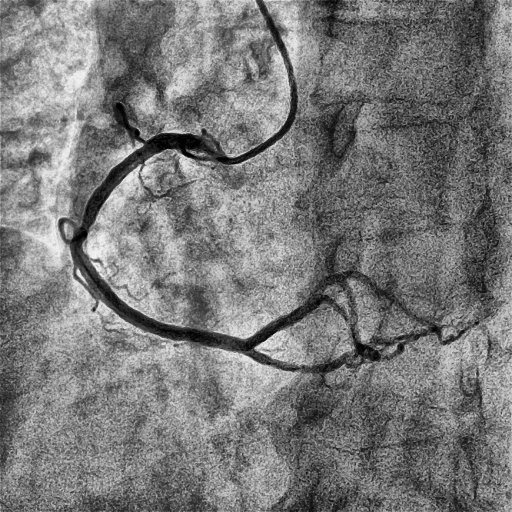pborca: (246, 271, 438, 350)
pda: (241, 348, 359, 373)
rca: (69, 133, 249, 354)
